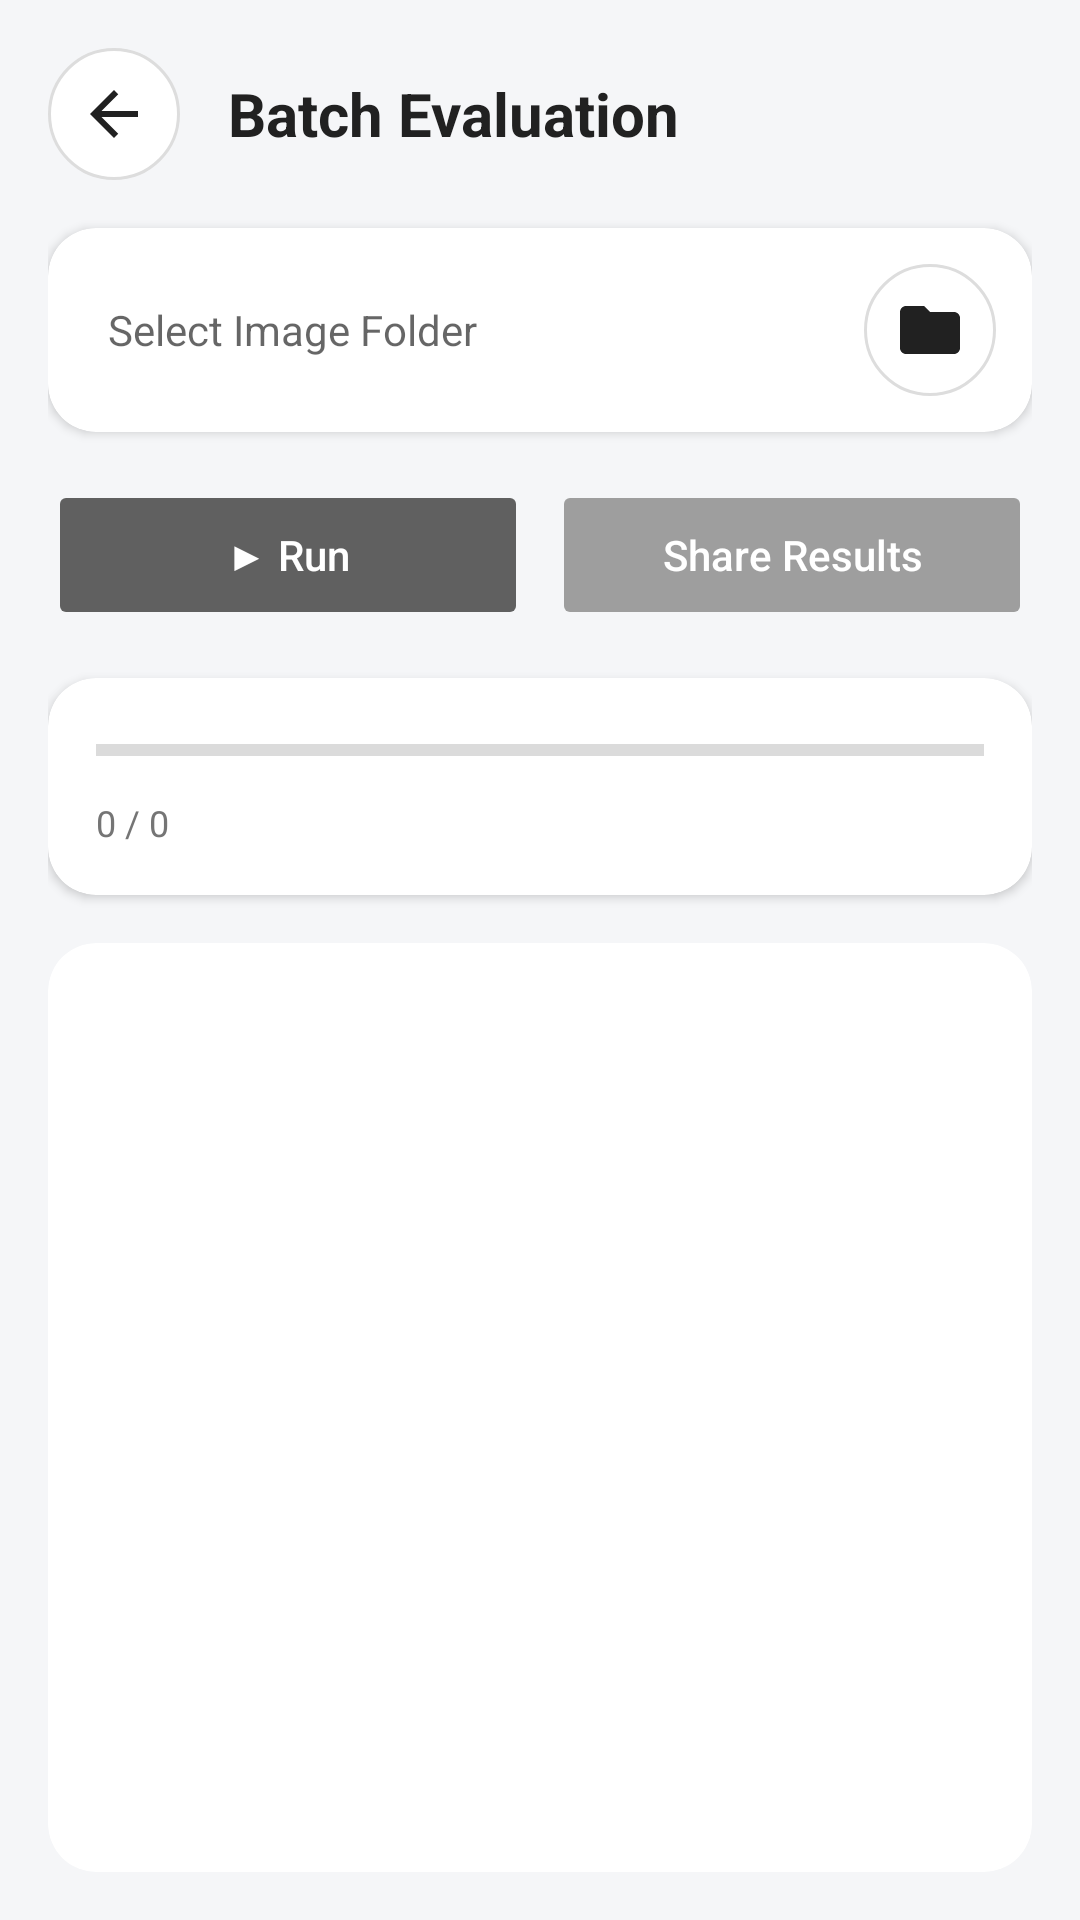

Icon click points for this 1080 × 1920 phone screenshot, format [x,y]:
Back: [114,114]
